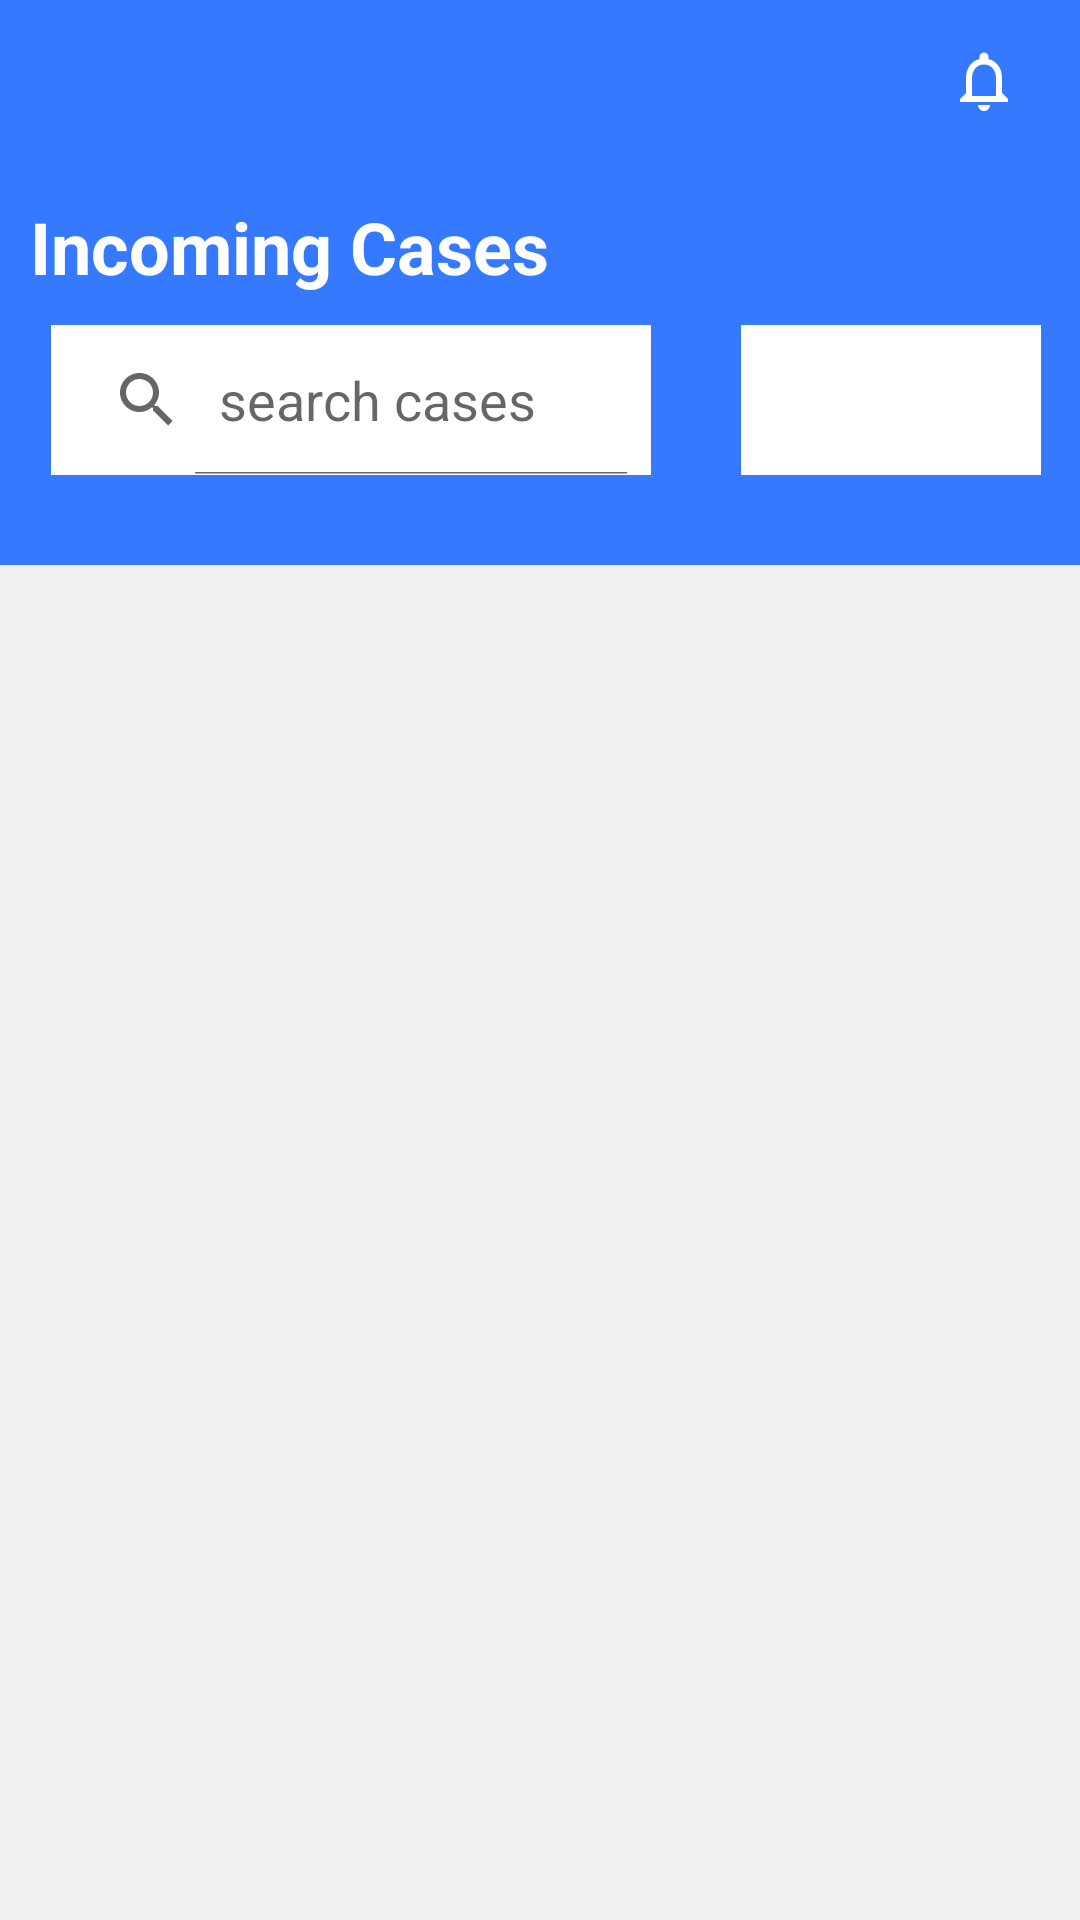

Named icons in this screenshot (1080 x 1920) and their centers, (x,y):
notifications none: (984,81)
